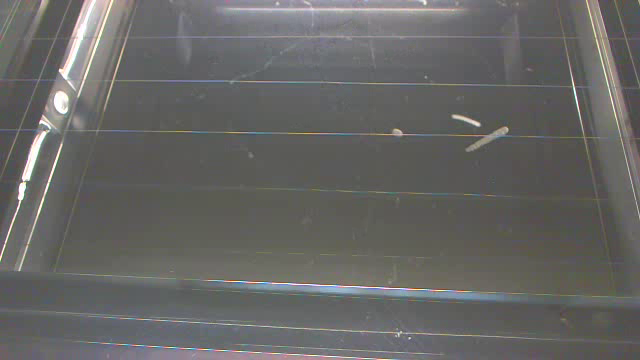alpha: (460, 126, 515, 155), (447, 110, 485, 129), (388, 125, 410, 143)
